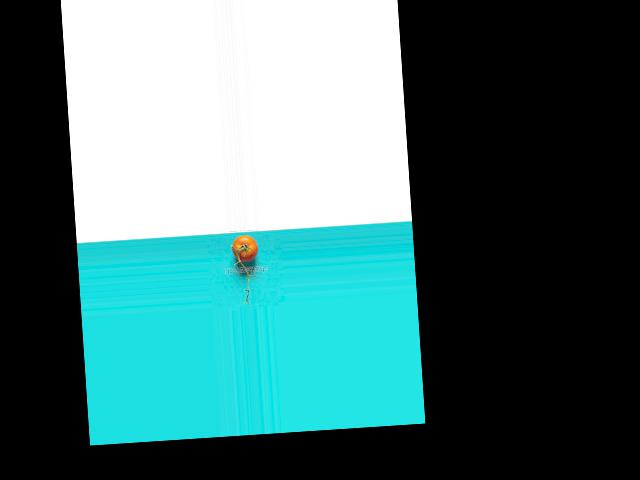tomato: (230, 235, 258, 262)
